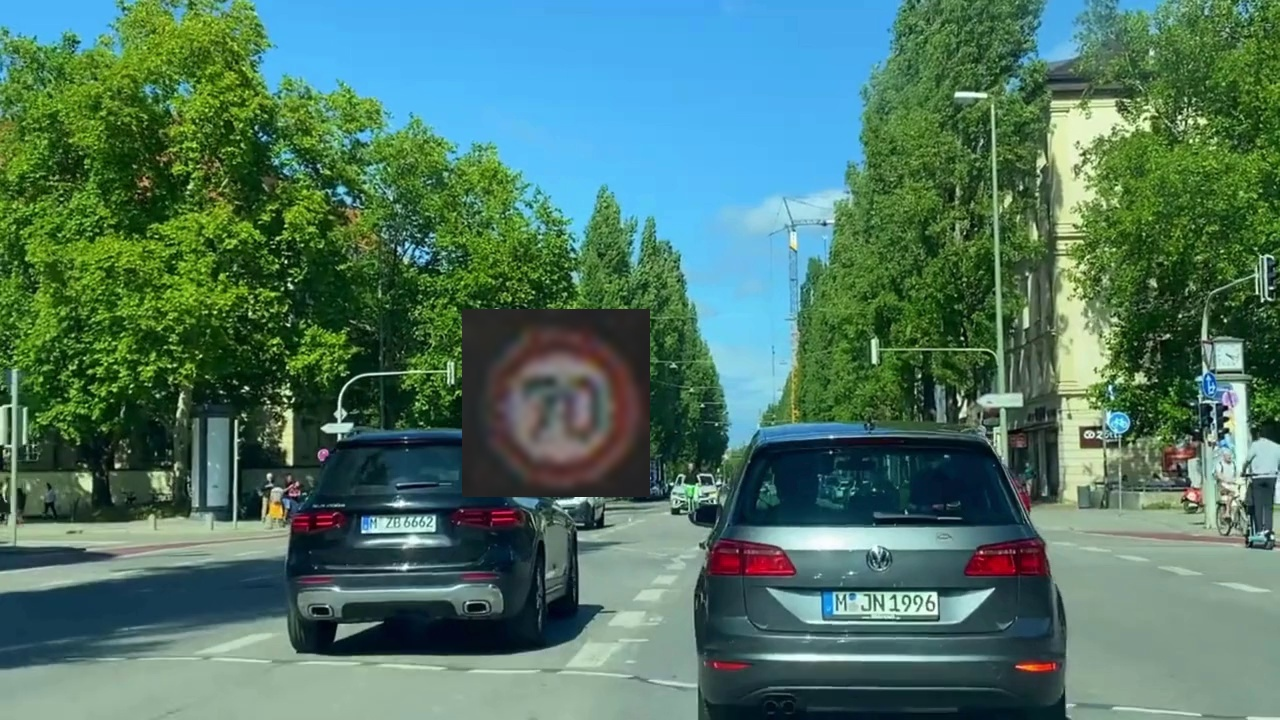Speed 70: (462, 309, 650, 497)
